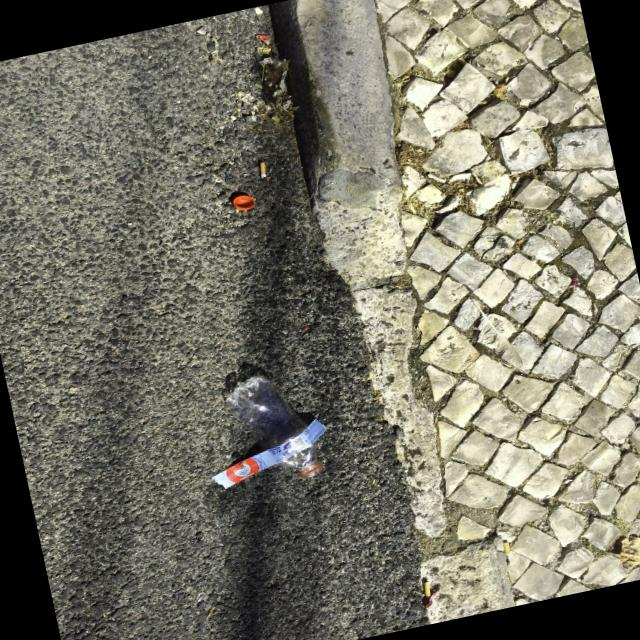less trash: (214, 375, 326, 487)
